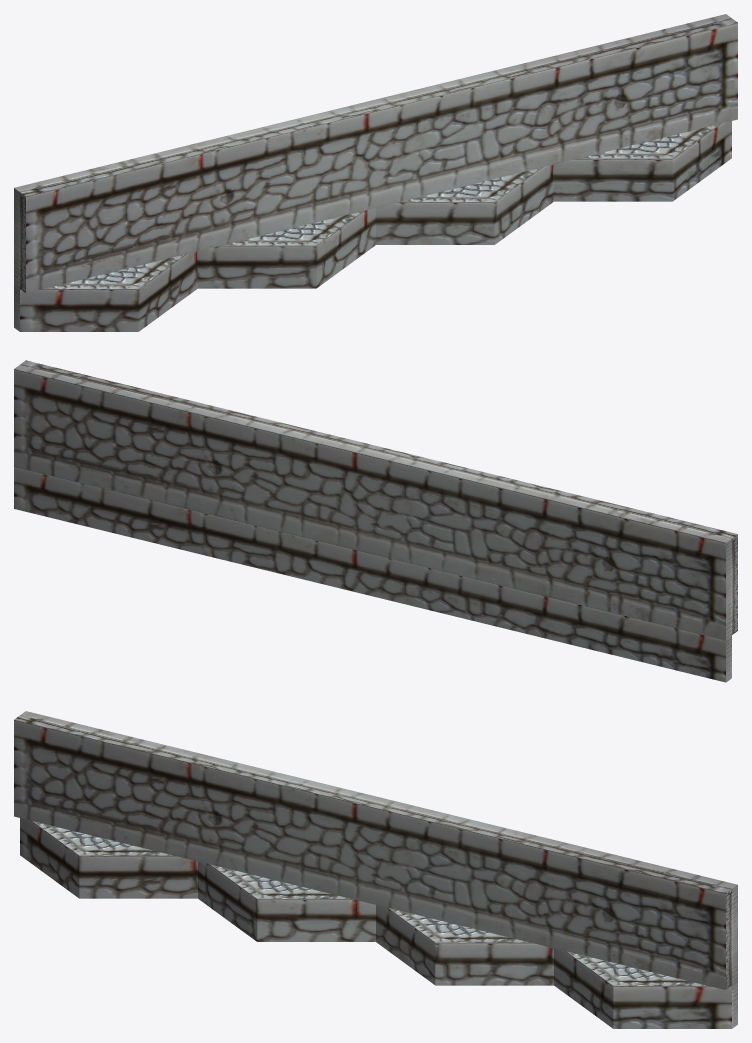
The model's file is road-wall-textured.glb.
The picture shows the model from 3 angles, top to bottom: view 1: azimuth 30°, elevation 25°; view 2: azimuth 150°, elevation 25°; view 3: azimuth 330°, elevation 25°; orthographic projection.
Visible parts, largest first — view 1: RoadWall, RoadWallRoad; view 2: RoadWall; view 3: RoadWall, RoadWallRoad.
Part boxes in pixels (box(x1,y1,x2,y2)): RoadWall: box(14, 14, 737, 331); RoadWallRoad: box(44, 124, 719, 288); RoadWall: box(14, 360, 737, 682); RoadWall: box(14, 711, 737, 1028); RoadWallRoad: box(32, 821, 707, 985).
Bounding box in the file's own units: 6.93 × 1.3 × 0.6.
Materials: 2 (2 with a texture image).
